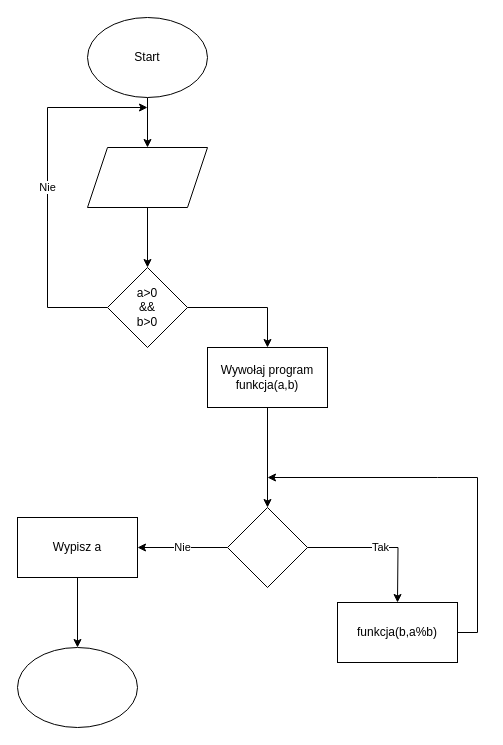
The diagram is 503 pixels wide and 745 high, and some of its shapes have lost their labels. The shapes that lost their labels are listed below. From the top down, each one's box as (x1, y1, x2, y2) in pixels, then its label:
(86, 146, 208, 208): Podaj a, b
(226, 506, 308, 588): b!=0
(16, 646, 138, 728): End
